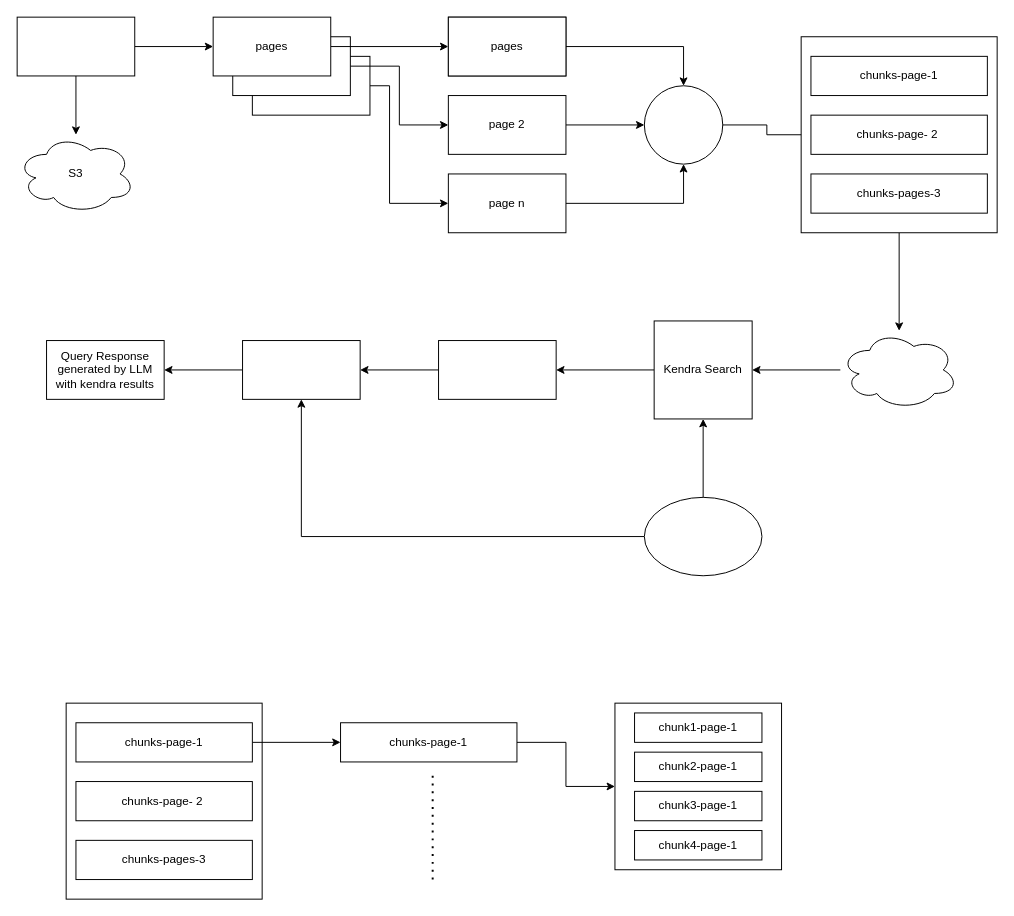
This 1014x916 diagram has some shape labels left out. Each missing label, with the centre of its shape:
"AWS Bedrock-Llama LLM" belongs at [301,369].
"AWS Textract" belongs at [683,124].
"pdf" belongs at [75,46].
"Query - User" belongs at [702,536].
"S3-blob-chunks" belongs at [898,369].
"Top similar results" belongs at [497,369].
